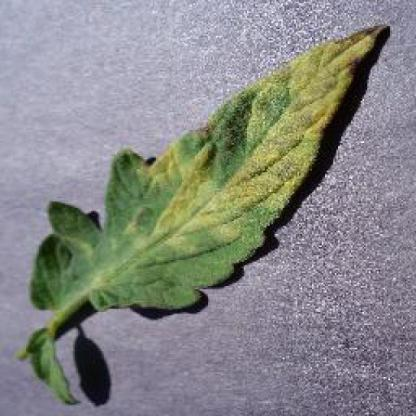Tomato_Leaf_Mold: (30, 24, 388, 310)
